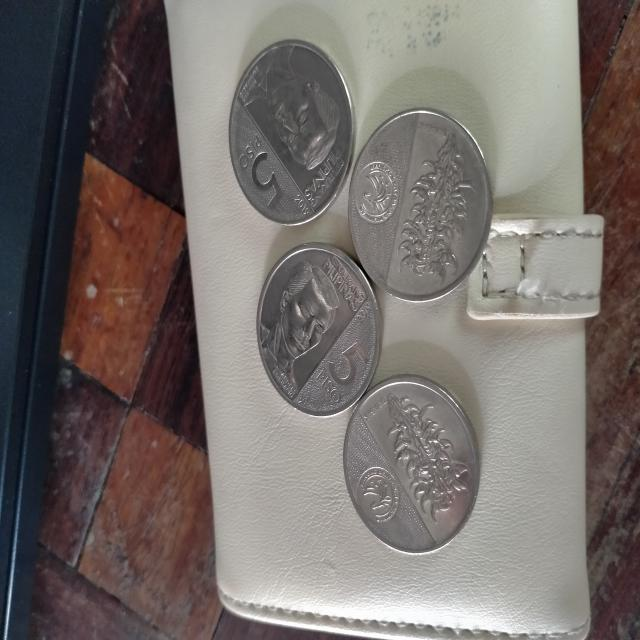5_New_Back: (379, 384, 476, 530), (397, 118, 470, 292)
5_New_Front: (236, 120, 289, 212), (314, 335, 372, 411)
